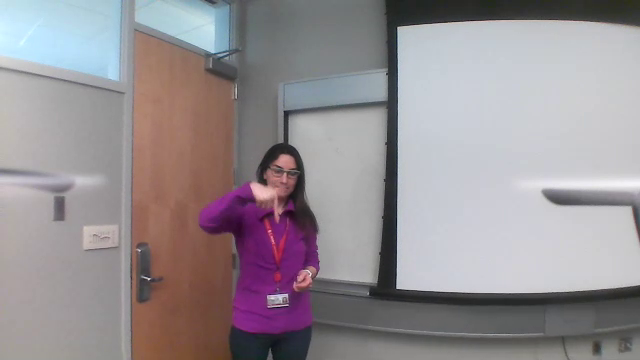down: (247, 180, 280, 218)
